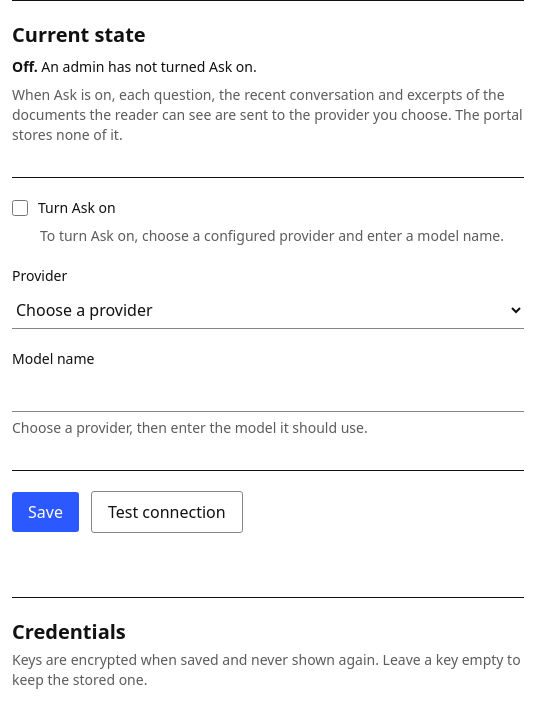
Test: AskSettingsForm › explains a rate-limited test and a failed request with fixed text
Select "Anthropic (configured)" in the dropdown labelled "Provider" at (268,310), box [12,292,524,329]
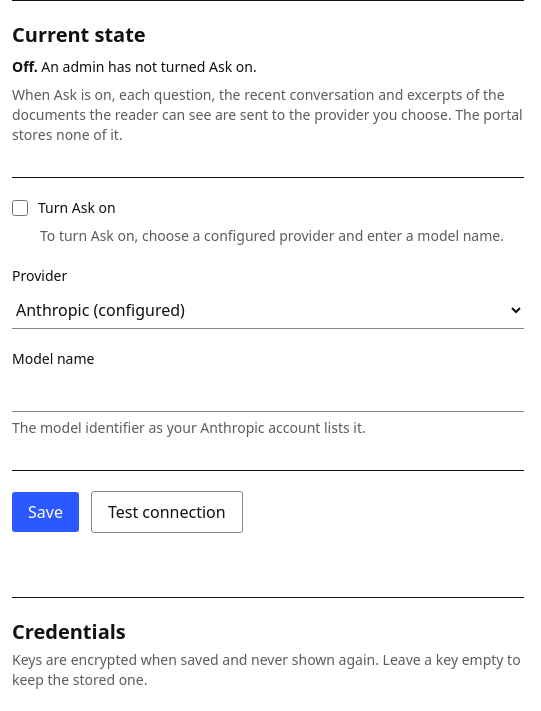
Type "m" into the field labelled "Model name".
click(268, 394); type("m")  # box [12,375,524,412]
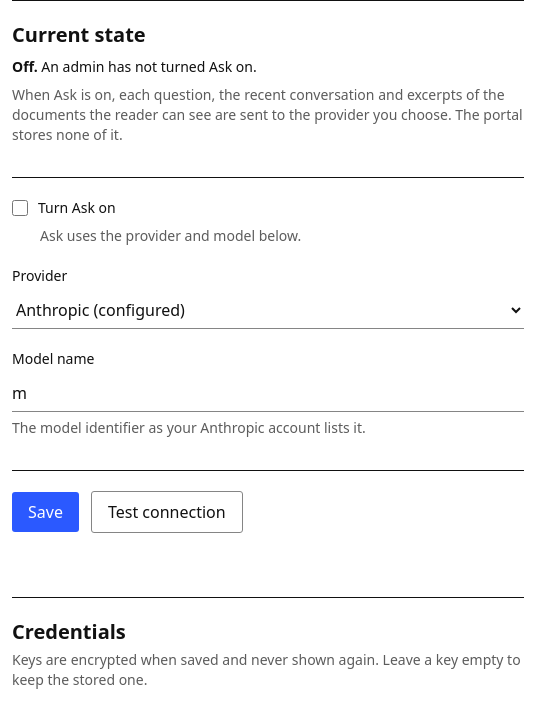
Click the button "Test connection".
click(167, 512)  # box [91,491,243,533]
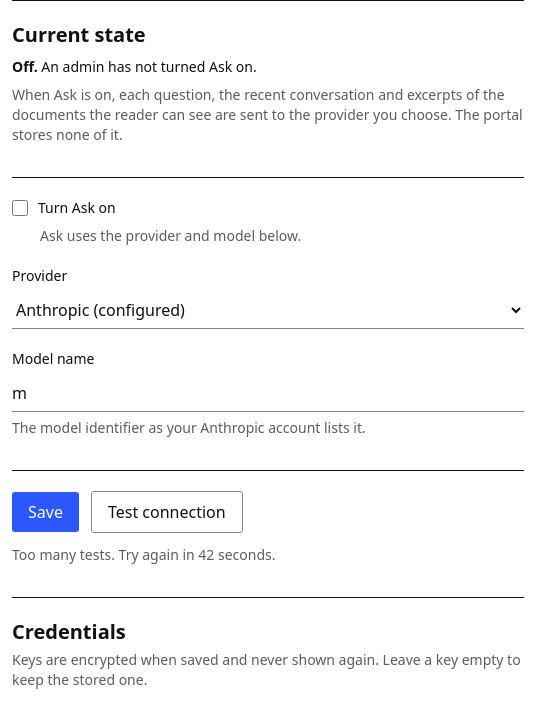
Check: the message with test id "ask-admin-result" reads "Too many tests. Try again in 42 seconds.", box [12,545,276,564]
Click the button "Test connection".
click(167, 512)  # box [91,491,243,533]
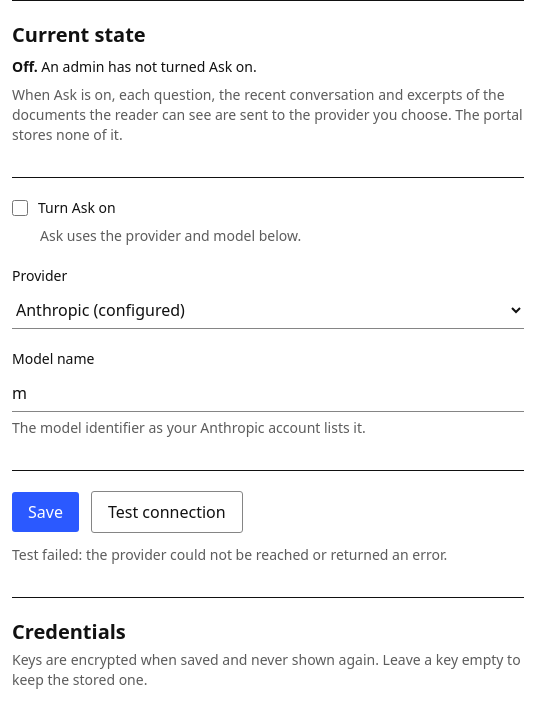
Check: the message with test id "ask-admin-result" shows "could not be reached", box [12,545,447,564]
